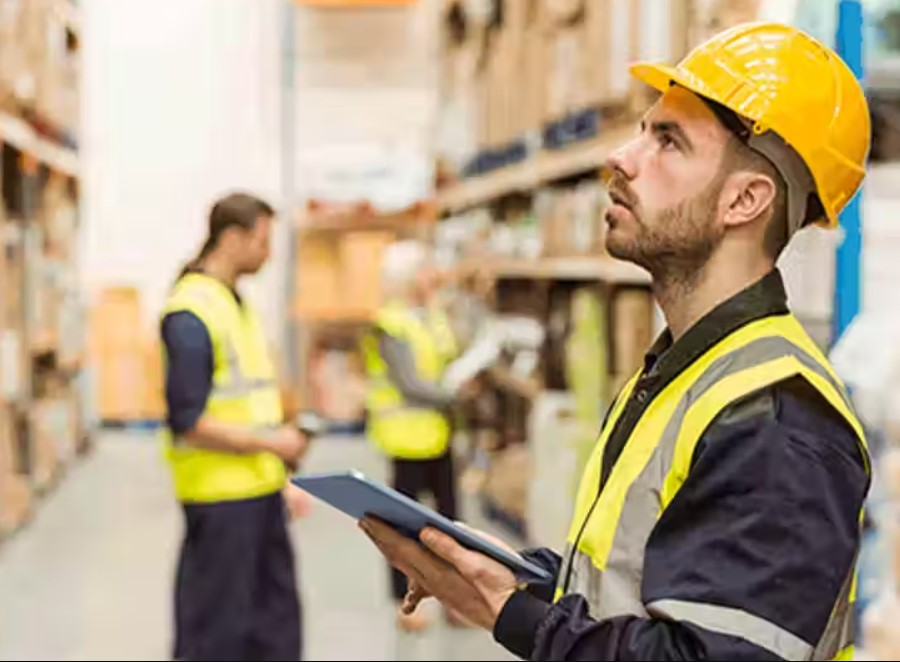worker: (551, 21, 872, 662)
